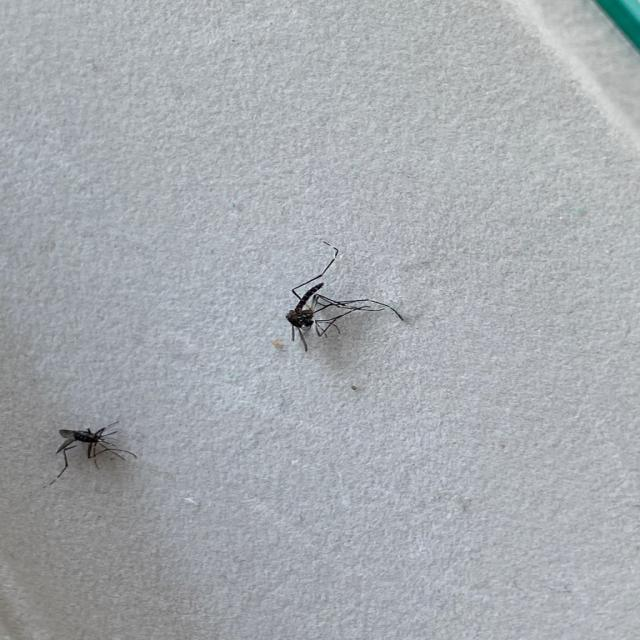albopictus: (266, 237, 406, 354)
